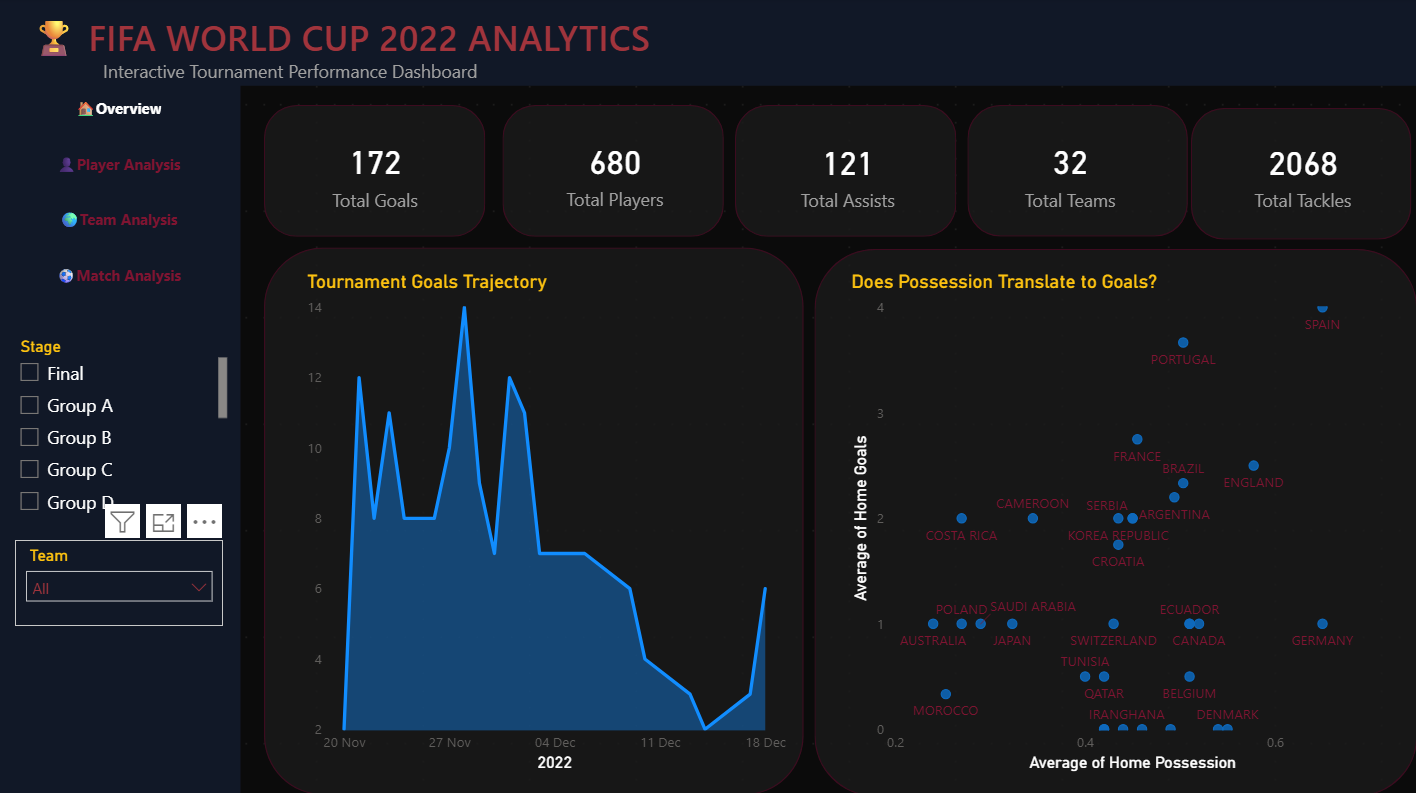

Layout of this report page (visuals, bound fields, positions):
{"tool":"powerbi","page":{"name":"🏠Overview     ","canvas":[1280,720],"ordinal":0},"visuals":[{"type":"shape","box":[736.7,226.7,543.3,493.3],"z":0},{"type":"shape","box":[240.8,97.5,199.6,118.9],"z":1000},{"type":"shape","box":[0,0,219.2,900.3],"z":2000},{"type":"shape","box":[0,0,1600,80],"z":3000},{"type":"textbox","box":[10,10,1590,50],"z":4000},{"type":"textbox","box":[90,50,1380,40],"z":5000},{"type":"shape","box":[455.6,97.5,199.6,118.9],"z":6000},{"type":"card","fields":{"Values":["Matches.Total Goals"]},"box":[265.1,106.7,150.9,102.1],"z":7000},{"type":"shape","box":[665.9,97.5,199.6,118.9],"z":8000},{"type":"shape","box":[874.3,97.6,198.6,118.6],"z":9000},{"type":"card","fields":{"Values":["Matches.Total Players"]},"box":[475.4,103.6,161.5,106.7],"z":10000},{"type":"card","fields":{"Values":["Matches.Total Assists"]},"box":[694.9,106.7,143.2,103.6],"z":11000},{"type":"card","fields":{"Values":["Matches.Total Teams"]},"box":[886.7,105.7,160,104.8],"z":12000},{"type":"shape","box":[240,226.4,486.4,493.6],"z":13000},{"type":"areaChart","title":"Tournament Goals Trajectory","fields":{"Y":["Matches.Total Goals"],"Category":["Matches.date.Variation.Date Hierarchy.Year","Matches.date.Variation.Date Hierarchy.Month","Matches.date.Variation.Date Hierarchy.Day"]},"box":[275,246.7,441.7,456.7],"z":14000},{"type":"slicer","fields":{"Values":["Matches.Stage"]},"box":[8,302,204,172],"z":15000},{"type":"slicer","fields":{"Values":["Teams.Team"]},"box":[16,490,188,76],"z":16000},{"type":"pageNavigator","box":[0,80.4,219.2,190.7],"z":17000},{"type":"scatterChart","title":"Does Possession Translate to Goals?","fields":{"X":["Avg(Matches.Home Possession)"],"Y":["Avg(Matches.Home Goals)"],"Category":["Matches.Home Team"]},"box":[765,246.7,485,456.7],"z":18000},{"type":"shape","box":[1076.7,99.5,198.6,118.6],"z":20000},{"type":"card","fields":{"Values":["Sum(Players.tackles_made)"]},"box":[1094,106,166,106],"z":21000}]}

Visuals, with their boxes on the page's 1280x720 design canvas (x1, y1, x2, y2). These are canvas units, not pixel positions in the 1416x793 screenshot, which may show the page scaled, cropped or inside an application window:
shape: locate(737, 227, 1280, 720)
shape: locate(241, 98, 440, 216)
shape: locate(0, 0, 219, 900)
shape: locate(0, 0, 1600, 80)
textbox: locate(10, 10, 1600, 60)
textbox: locate(90, 50, 1470, 90)
shape: locate(456, 98, 655, 216)
card - Matches.Total Goals: locate(265, 107, 416, 209)
shape: locate(666, 98, 866, 216)
shape: locate(874, 98, 1073, 216)
card - Matches.Total Players: locate(475, 104, 637, 210)
card - Matches.Total Assists: locate(695, 107, 838, 210)
card - Matches.Total Teams: locate(887, 106, 1047, 210)
shape: locate(240, 226, 726, 720)
"Tournament Goals Trajectory" areaChart: locate(275, 247, 717, 703)
slicer - Matches.Stage: locate(8, 302, 212, 474)
slicer - Teams.Team: locate(16, 490, 204, 566)
pageNavigator: locate(0, 80, 219, 271)
"Does Possession Translate to Goals?" scatterChart: locate(765, 247, 1250, 703)
shape: locate(1077, 100, 1275, 218)
card - Sum(Players.tackles_made): locate(1094, 106, 1260, 212)
